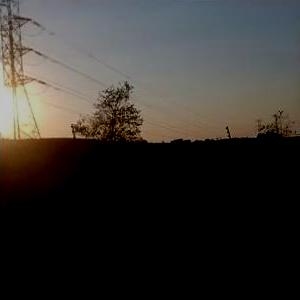follow: (119, 149, 184, 299)
